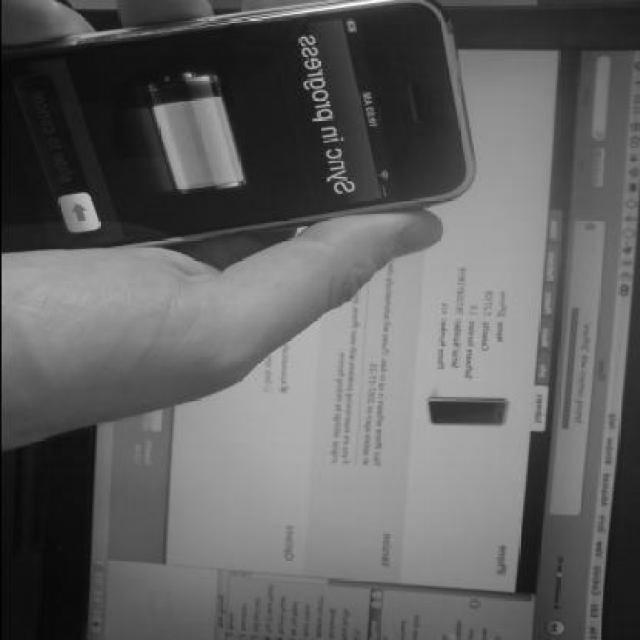fake: (0, 4, 486, 248), (426, 400, 508, 426)
